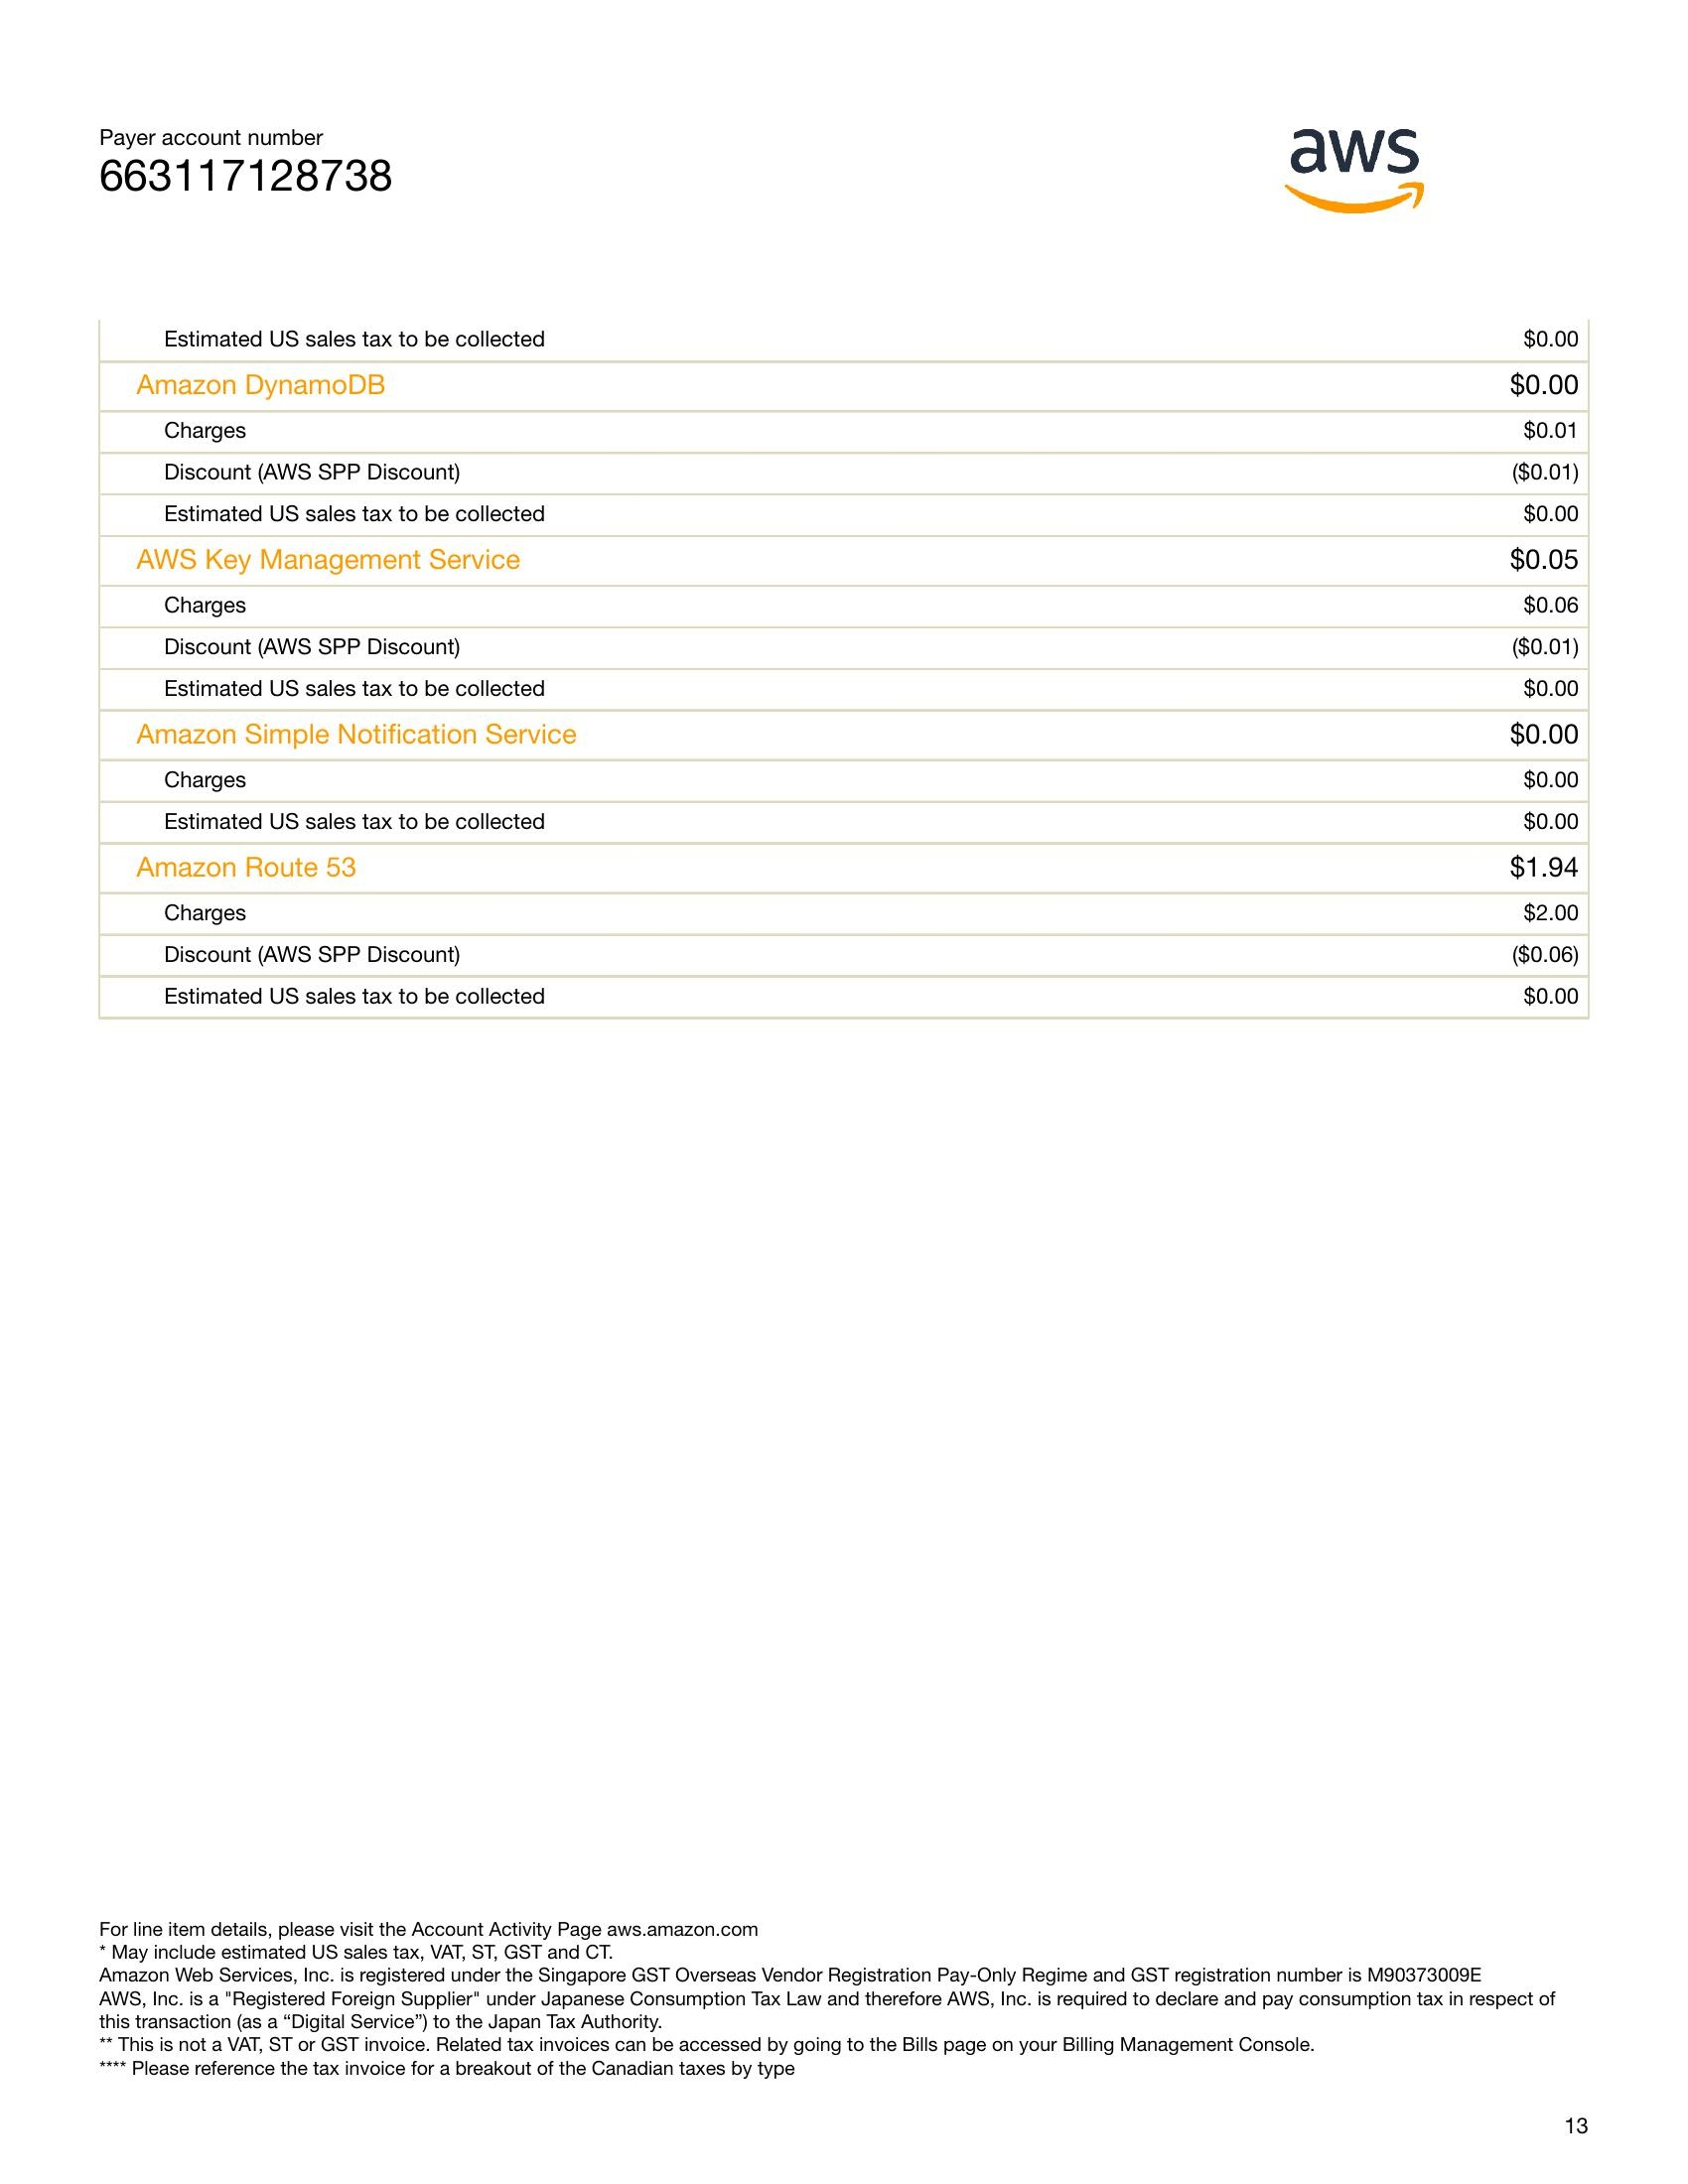0 table: (80, 294, 1601, 1021)
